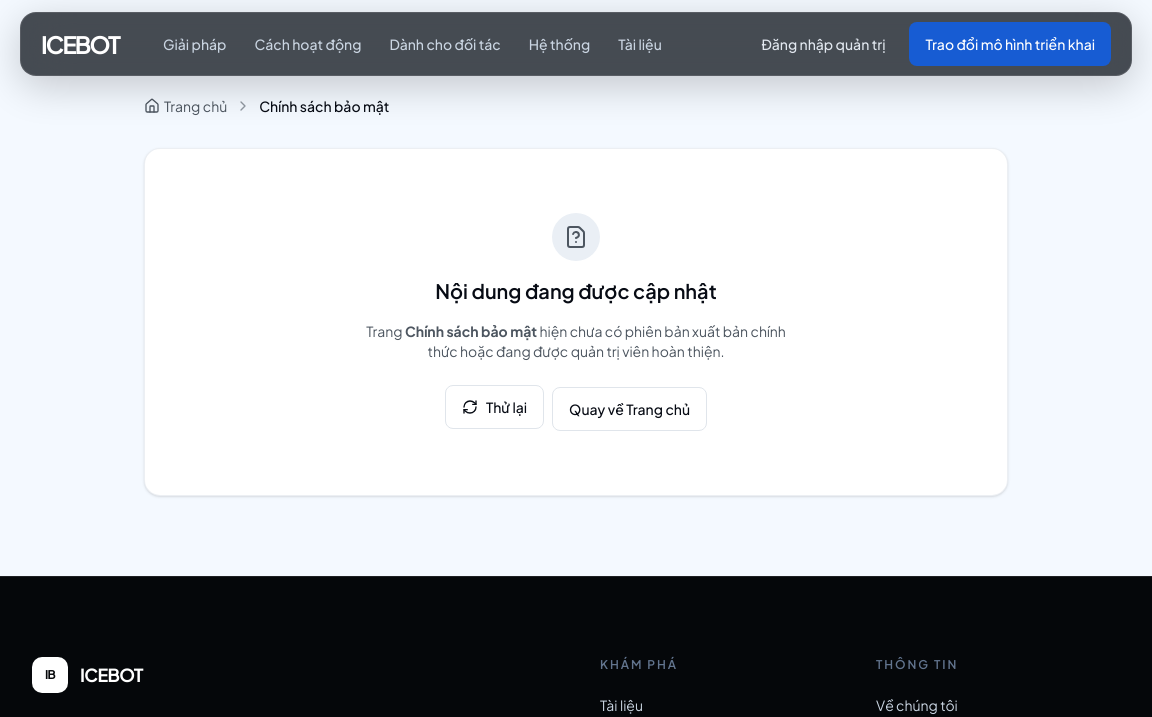
Scenario: PublicContentPageView › shows fallback message when page has no published revision
expect the heading "Nội dung đang được cập nhật" is shown: met, box [435,278,717,303]
expect the link "Quay về Trang chủ" is shown: met, box [552,387,707,431]
Click the button "Thử lại" at (494, 407), box [445,385,544,429]
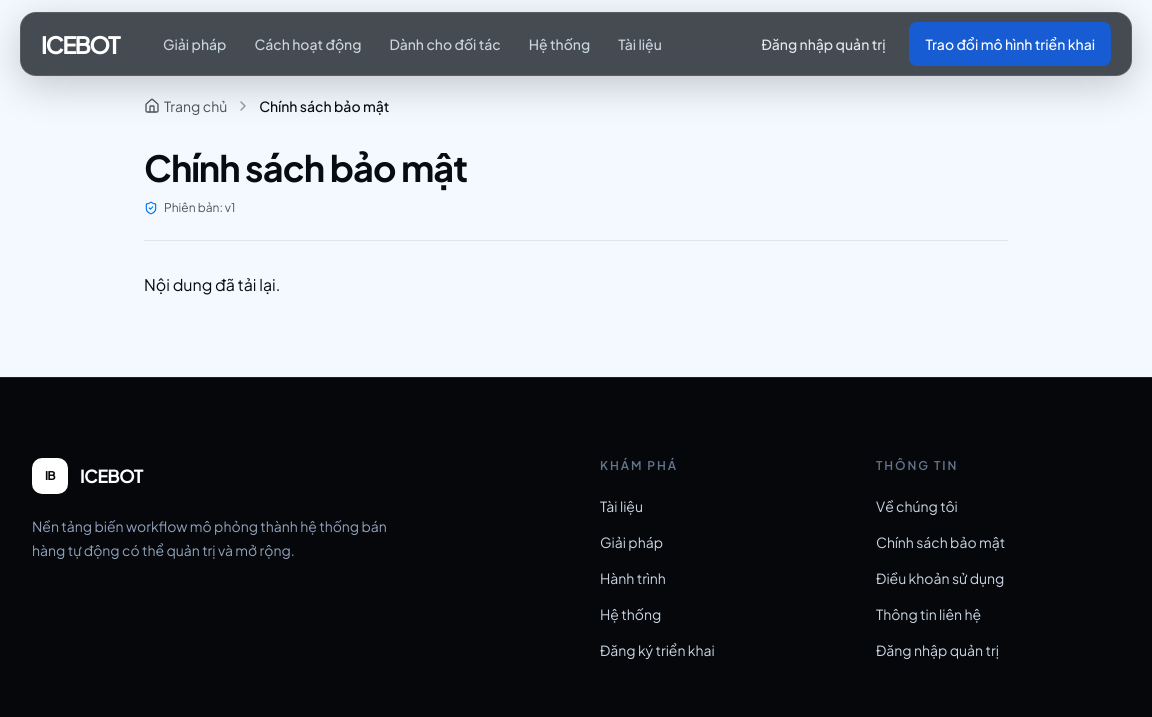
expect the text "Nội dung đã tải lại." is shown: met, box [144,274,280,295]
